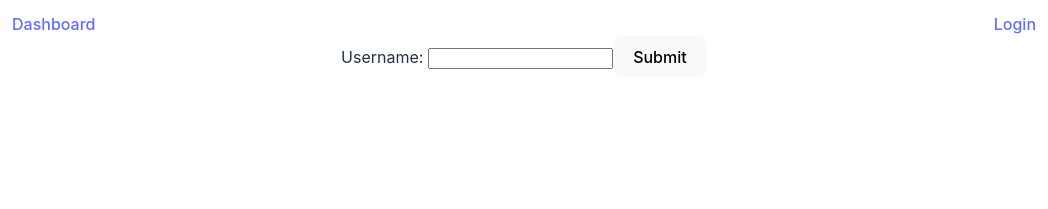
Test: App › providing username redirects user to dashboard with that user logged in and update navbar
Type "snuken" into the field labelled "Username:" at point(520, 58), box [428,48,613,69]
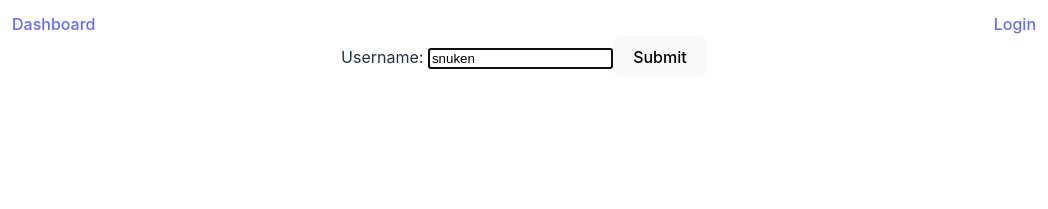
Click the button "Submit" at point(660, 57), box [613,36,707,77]
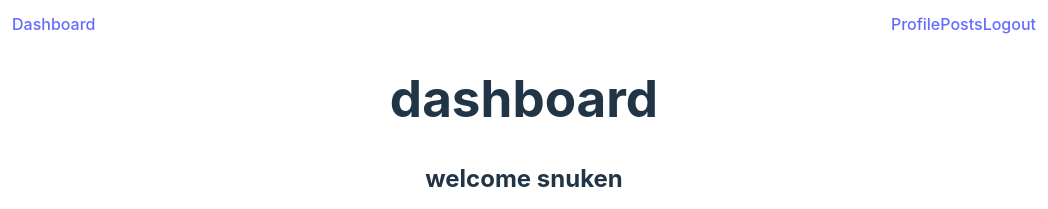
Expected: the heading "welcome snuken" is shown, [425,164,623,193]
Expected: the link "Logout" is shown, [983,14,1036,34]
